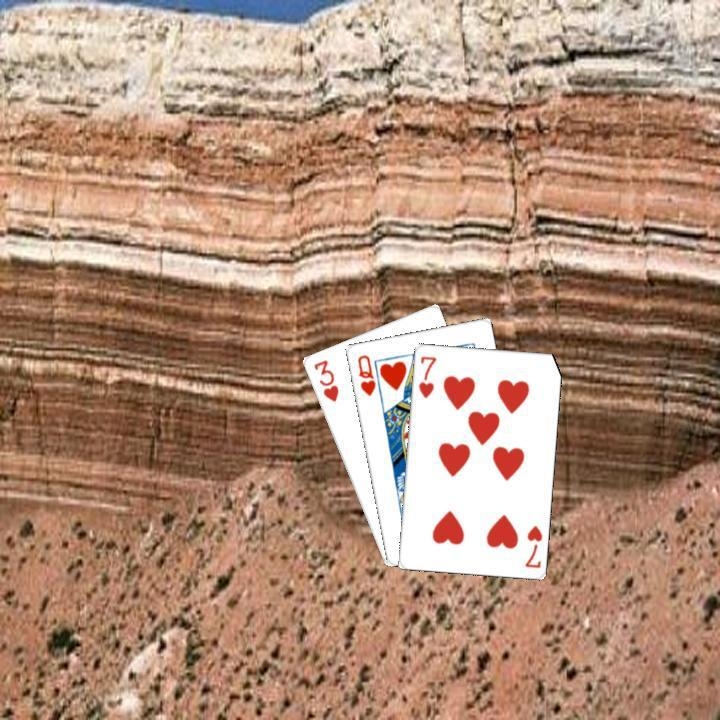3: (309, 355, 340, 404)
7: (414, 351, 438, 400), (520, 521, 544, 570)
Q: (353, 350, 377, 398)
